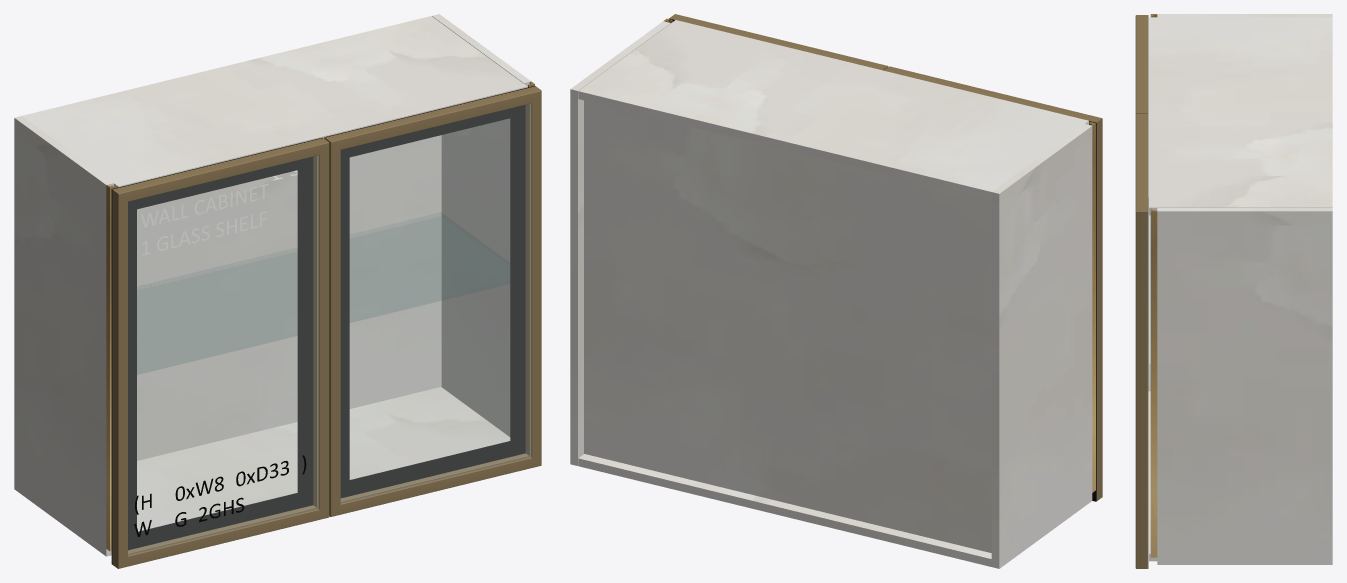
Rendered from WC1GS2GHS (H720 XW850 XD336).glb.
3 renders of one model, left to right at view 1: azimuth 30°, elevation 25°; view 2: azimuth 150°, elevation 25°; view 3: azimuth 270°, elevation 25°, orthographic. The views are drawn at different scales.
Size of what is drawn, in the model's own units: 0.85 by 0.7185 by 0.366.
8 materials, 2 textured.
